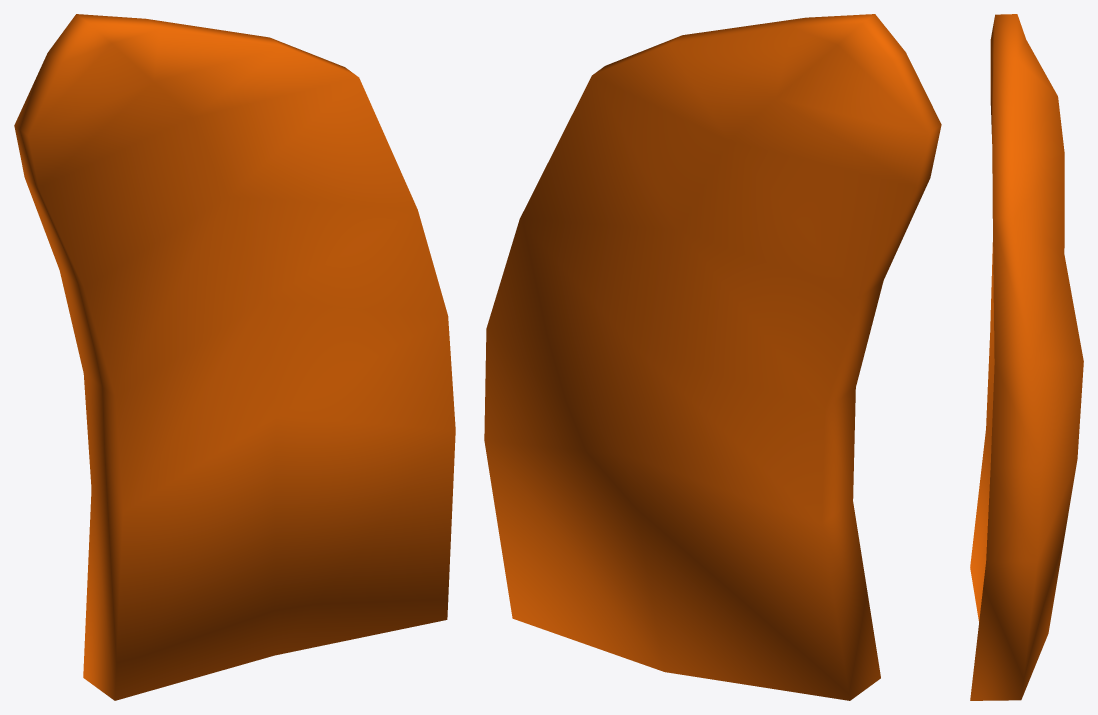
Rendered from grass-10_col.fbx.
3 renders of one model, left to right at view 1: azimuth 30°, elevation 25°; view 2: azimuth 150°, elevation 25°; view 3: azimuth 270°, elevation 25°, orthographic. The views are drawn at different scales.
Visible parts, largest first — view 1: grass-10.col; view 2: grass-10.col; view 3: grass-10.col.
Part boxes in pixels (x1,y1,x2,y2): grass-10.col: (14,14,455,700); grass-10.col: (484,14,941,700); grass-10.col: (970,14,1083,700).
Size of the model in its own units: 0.0493 by 0.0743 by 0.0139.
Materials: 1 (1 with a texture image).
